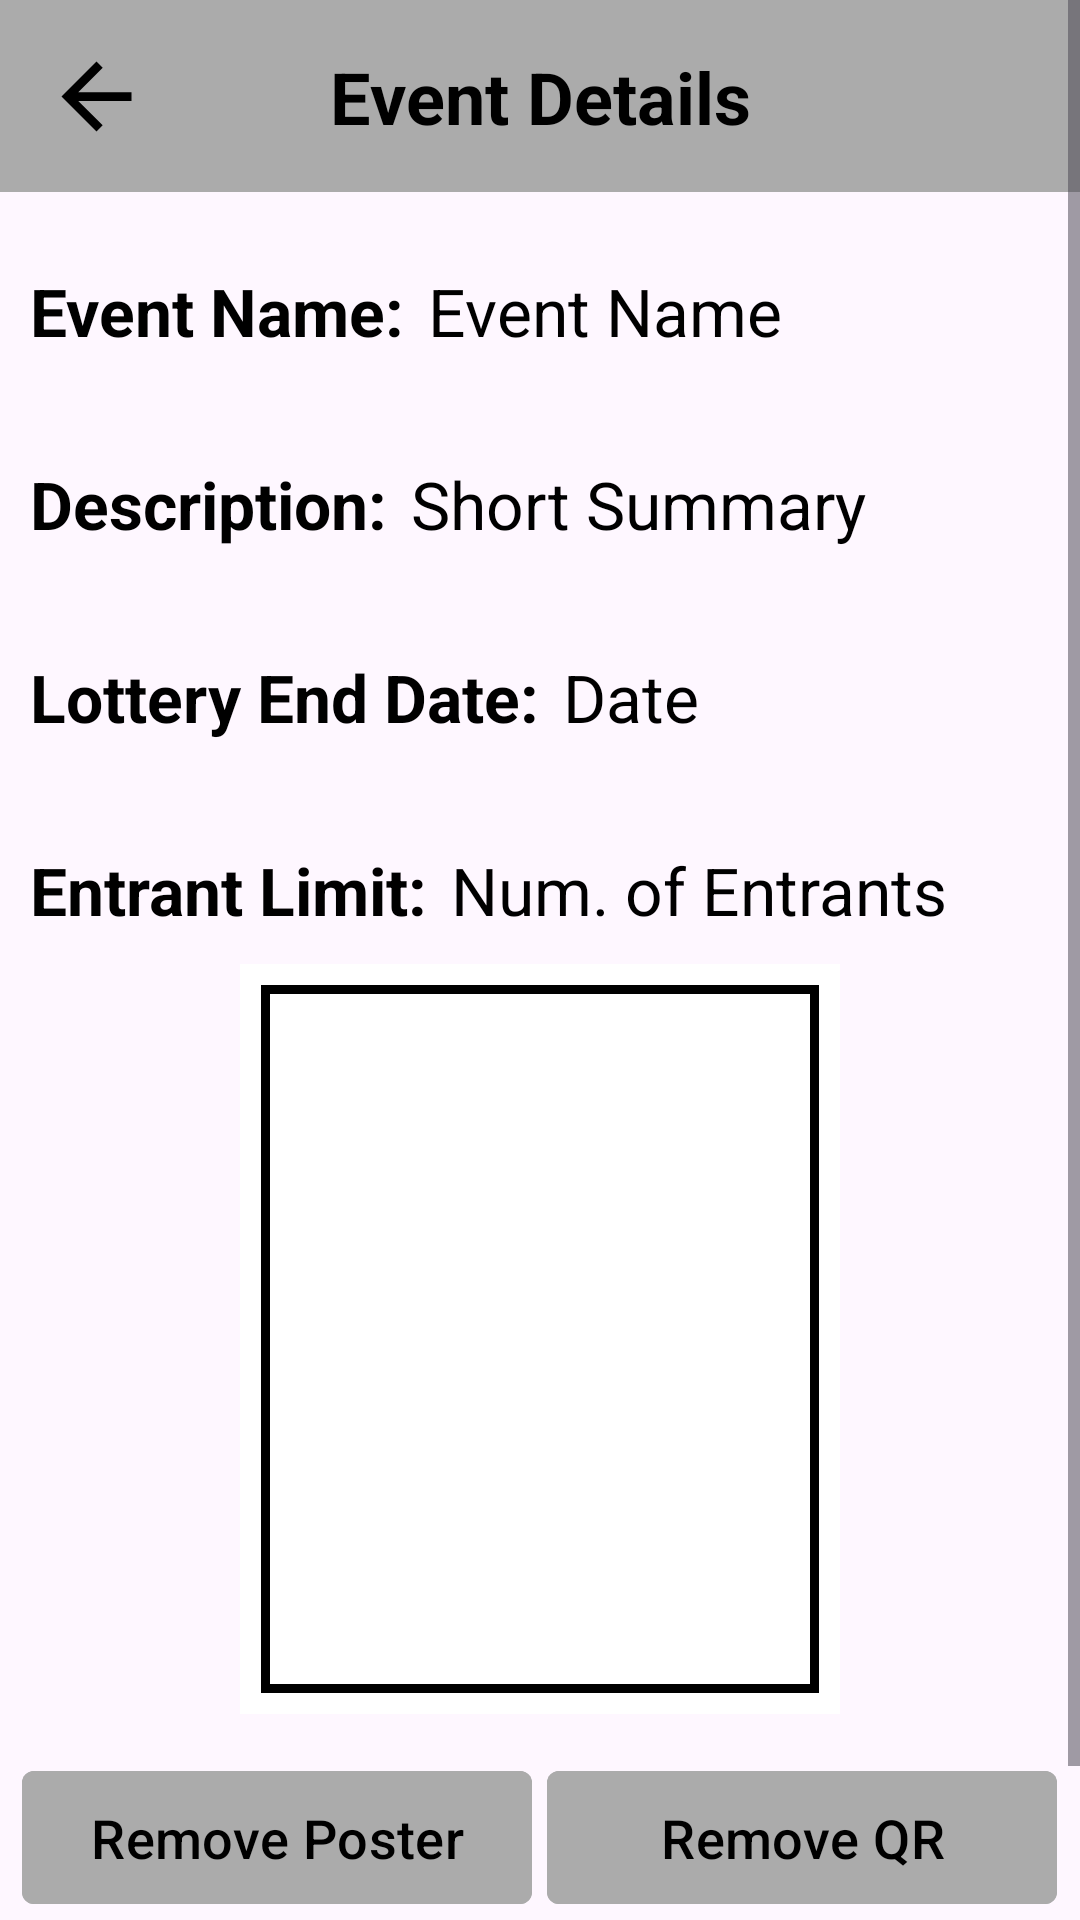

Screen size 1080x1920. Icon name, then its center in pixels as (x=x, y=y):
Go Back: (x=96, y=96)
